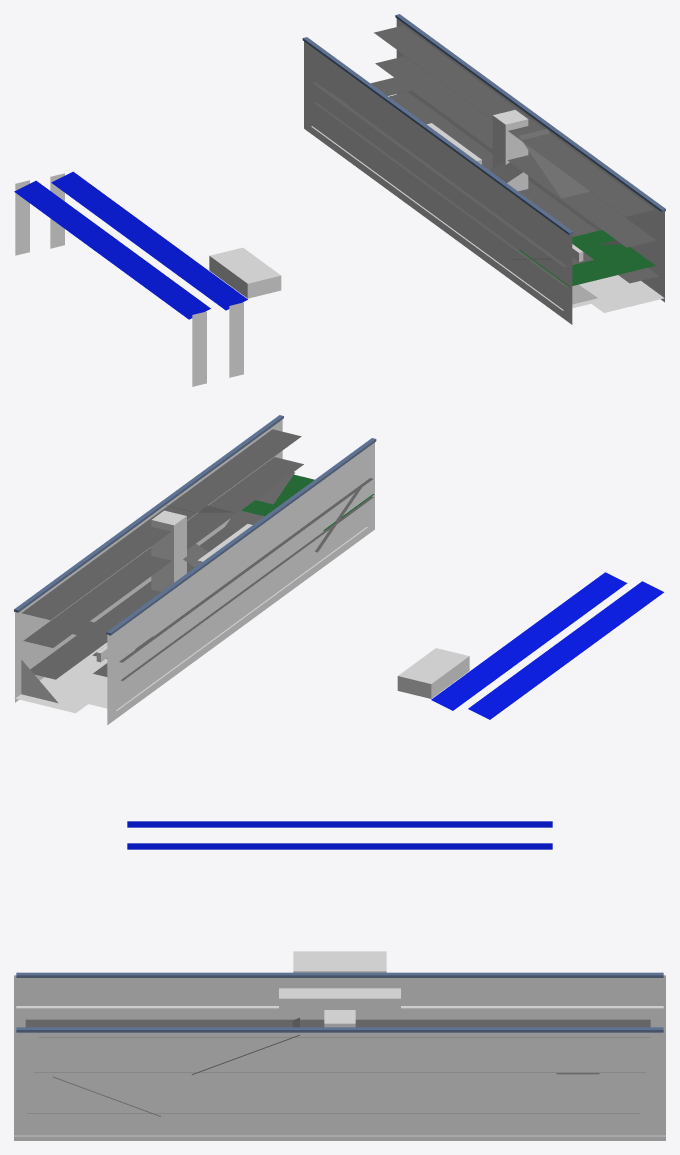
3 views of the same model, one above another, from view 1: azimuth 30°, elevation 25°; view 2: azimuth 150°, elevation 25°; view 3: azimuth 270°, elevation 25° (orthographic). The views are drawn at different scales.
Visible parts, largest first — view 1: Plane, Plane.018, Plane.014, Plane.009, Plane.008, Plane.003, Plane.017, Plane.019, Cube, Cube.003, Cube.004, Cube.005 (+10 smaller); view 2: Plane, Plane.018, Plane.014, Plane.008, Plane.009, Plane.003, Plane.017, Cube, Cube.005, Cube.003, Cube.004, Plane.001 (+7 smaller); view 3: Plane.003, Plane, Cube.001, Plane.018, Cube.003, Cube.004, Cube.002, Plane.008, Plane.009, Cube, Plane.002, Plane.017 (+2 smaller).
Boxes of the visible parts, <box> form: Plane: <box>304,41,572,324</box>; Plane.018: <box>374,25,654,216</box>; Plane.014: <box>375,56,656,247</box>; Plane.009: <box>14,180,210,319</box>; Plane.008: <box>51,171,247,310</box>; Plane.003: <box>396,18,664,302</box>; Plane.017: <box>389,92,658,283</box>; Plane.019: <box>519,230,655,286</box>; Cube: <box>209,247,281,298</box>; Cube.003: <box>302,37,573,234</box>; Cube.004: <box>395,14,665,211</box>; Cube.005: <box>492,110,528,191</box>; Plane: <box>107,442,374,724</box>; Plane.018: <box>21,429,301,620</box>; Plane.014: <box>23,457,303,647</box>; Plane.008: <box>431,572,627,710</box>; Plane.009: <box>468,581,663,719</box>; Plane.003: <box>15,419,282,702</box>; Plane.017: <box>30,527,238,679</box>; Cube: <box>397,648,469,698</box>; Cube.005: <box>151,510,186,591</box>; Cube.003: <box>106,438,376,635</box>; Cube.004: <box>14,415,283,612</box>; Plane.001: <box>56,527,367,710</box>; Plane.003: <box>14,1030,665,1140</box>; Plane: <box>14,975,665,1030</box>; Cube.001: <box>16,1006,663,1019</box>; Plane.018: <box>38,1019,650,1037</box>; Cube.003: <box>16,972,663,977</box>; Cube.004: <box>16,1027,663,1032</box>; Cube.002: <box>279,988,400,1019</box>; Plane.008: <box>127,843,552,849</box>; Plane.009: <box>127,821,552,827</box>; Cube: <box>293,951,386,972</box>; Plane.002: <box>14,1135,665,1136</box>; Plane.017: <box>27,1113,638,1113</box>.
Bounding box in the file's own units: 9.94 × 2.33 × 10.67.
